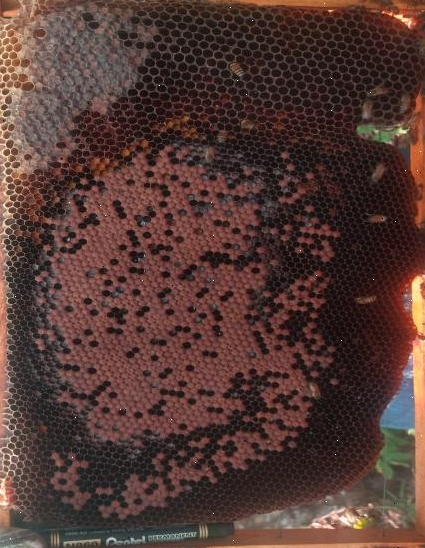cria: (22, 136, 342, 522)
